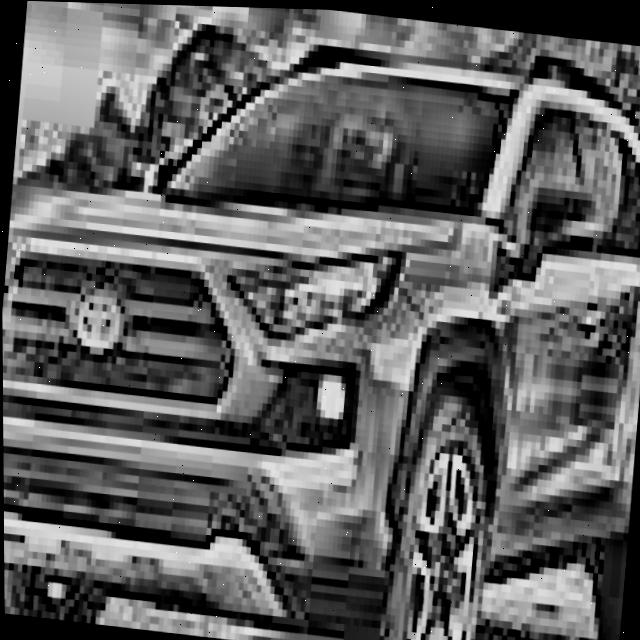light_vehicle: (0, 2, 640, 640)
